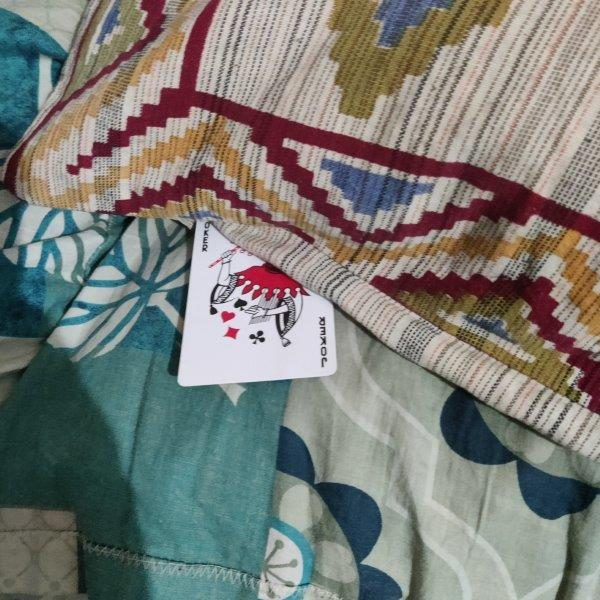Joker: (175, 220, 338, 389)
